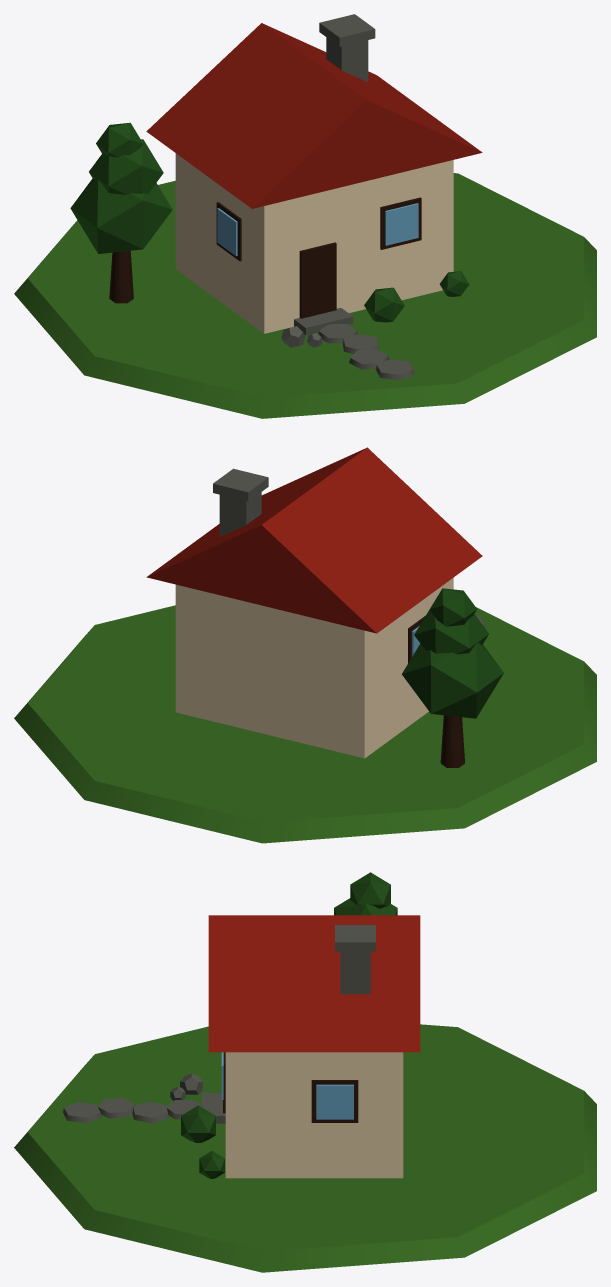
File: low-poly-house.obj
3 views of the same model, one above another, from view 1: azimuth 30°, elevation 25°; view 2: azimuth 150°, elevation 25°; view 3: azimuth 270°, elevation 25° (orthographic).
Parts seen in each view (by area): view 1: ground, roof, walls, treeCanopyBottom, door, treeCanopyMid, chimney, chimneyCap, windowFront, treeCanopyTop, treeTrunk, bush1 (+8 smaller); view 2: ground, roof, walls, treeCanopyBottom, treeCanopyMid, treeCanopyTop, chimney, chimneyCap, treeTrunk; view 3: ground, roof, walls, windowSideR, chimney, treeCanopyTop, chimneyCap, bush1, windowFrameSideR, treeCanopyMid, pathSlab4, pathSlab2 (+2 smaller).
Part boxes in pixels (box(x1,y1,x2,y2)): ground: box(14, 173, 596, 418); roof: box(146, 23, 482, 208); walls: box(175, 153, 453, 333); treeCanopyBottom: box(70, 178, 172, 253); door: box(299, 242, 336, 318); treeCanopyMid: box(89, 139, 163, 194); chimney: box(326, 37, 368, 81); chimneyCap: box(319, 14, 375, 46); windowFront: box(385, 203, 418, 245); treeCanopyTop: box(96, 122, 143, 157); treeTrunk: box(109, 250, 133, 303); bush1: box(364, 287, 404, 322); ground: box(14, 605, 596, 843); roof: box(146, 447, 482, 633); walls: box(175, 578, 453, 758); treeCanopyBottom: box(402, 642, 503, 718); treeCanopyMid: box(414, 610, 488, 654); treeCanopyTop: box(429, 588, 476, 626); chimney: box(219, 492, 261, 536); chimneyCap: box(213, 468, 268, 501); treeTrunk: box(440, 715, 464, 767); ground: box(14, 1024, 596, 1272); roof: box(208, 915, 420, 1052); walls: box(225, 1052, 403, 1178); windowSideR: box(316, 1084, 353, 1119); chimney: box(340, 951, 370, 994); treeCanopyTop: box(350, 872, 390, 908); chimneyCap: box(335, 925, 375, 951); bush1: box(181, 1105, 215, 1142); windowFrameSideR: box(311, 1080, 358, 1122); treeCanopyMid: box(334, 898, 397, 915); pathSlab4: box(62, 1102, 101, 1123); pathSlab2: box(132, 1102, 168, 1123).
Bounding box in the file's own units: 8.67 × 3.88 × 8.53.
